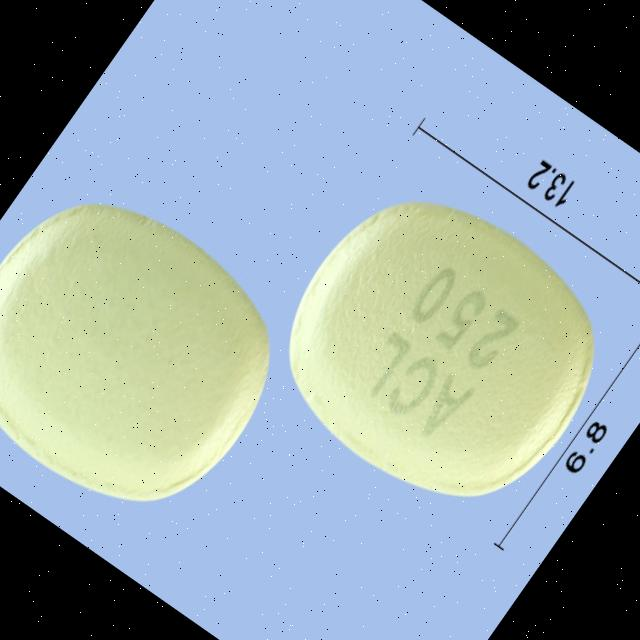Clorid: (241, 153, 640, 544), (0, 155, 317, 548)
